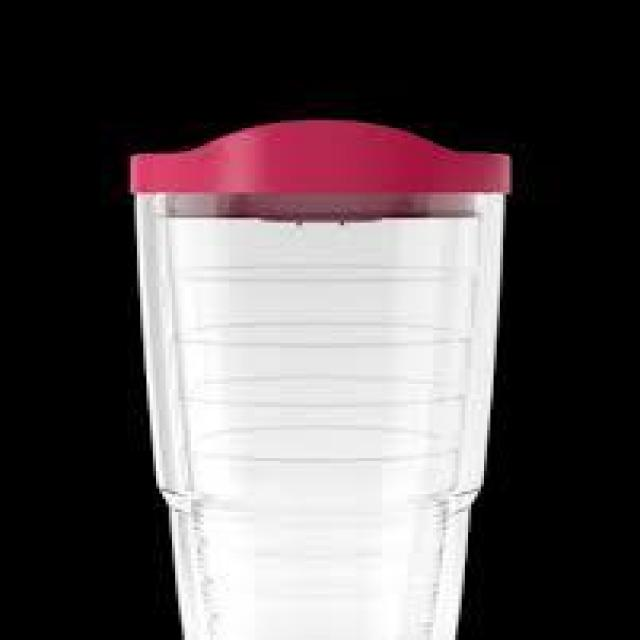bottle: (125, 112, 511, 640)
